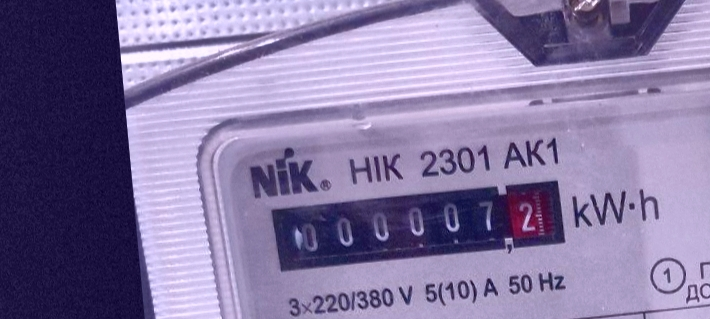0: (367, 206, 394, 246), (297, 217, 322, 254), (439, 197, 463, 235), (405, 203, 428, 241), (334, 212, 357, 249)
2: (515, 197, 539, 235)
7: (475, 195, 499, 235)
screen: (265, 171, 575, 279)
